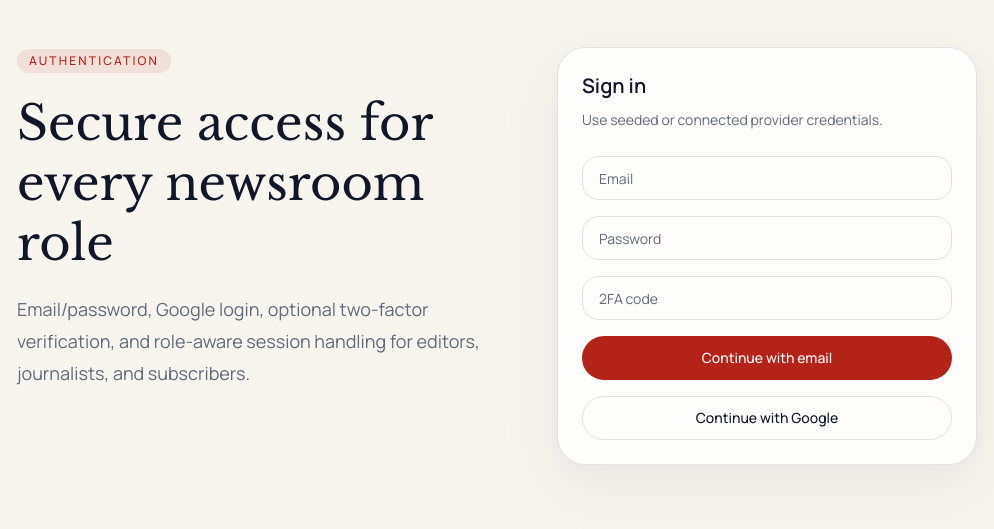
Test: LoginPage › shows a clear error when credentials fail
Type "admin@vanterenpress.com" into the field with placeholder "Email" at point(767, 178), box x1=582 y1=156 x2=952 y2=200
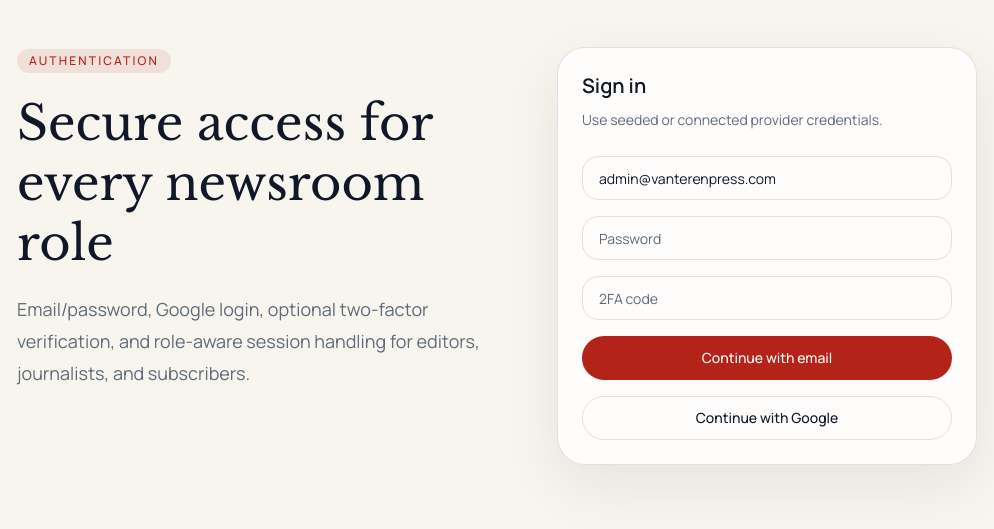
Type "wrong-password" into the password field with placeholder "Password" at point(767, 238), box x1=582 y1=216 x2=952 y2=260
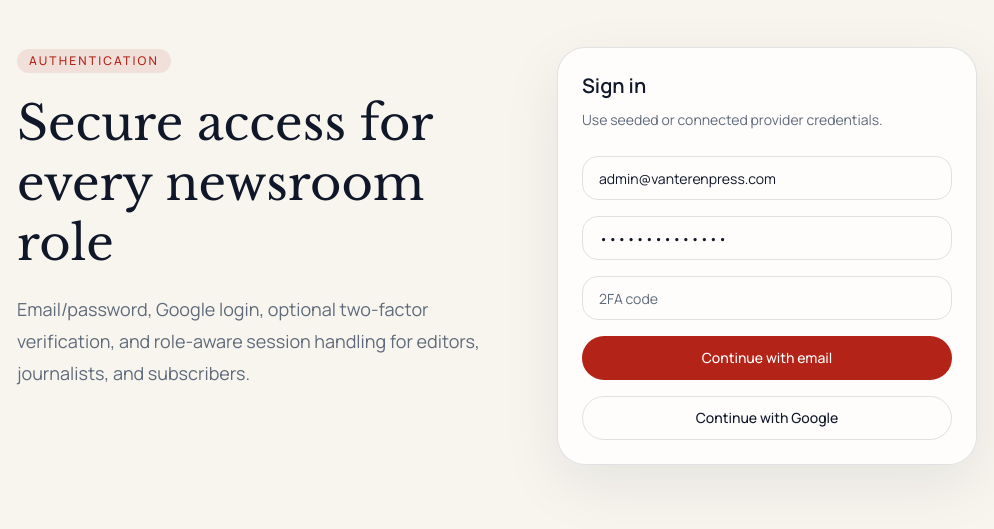
Click the button "Continue with email" at point(767, 358), box x1=582 y1=336 x2=952 y2=380
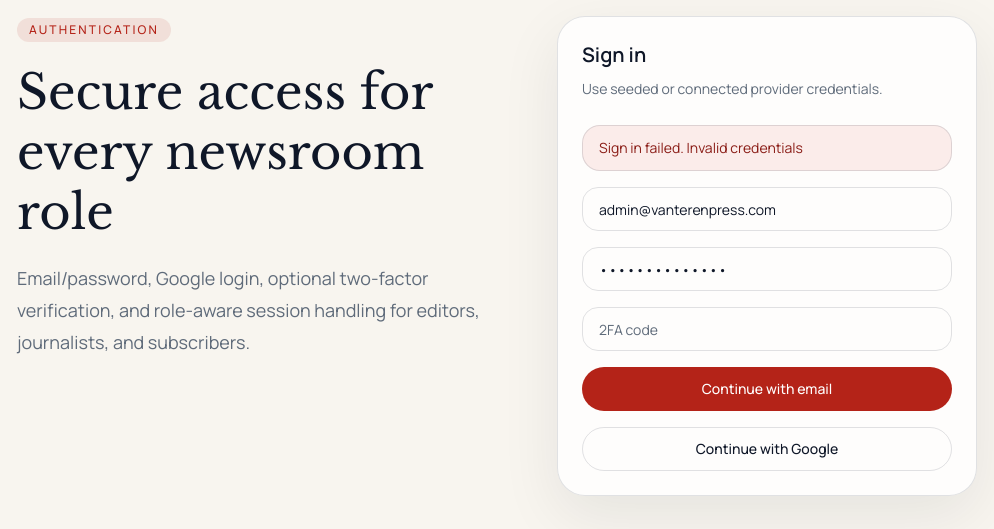
Expected: the button "Continue with email" is enabled, x1=582 y1=367 x2=952 y2=411
Now the text "Sign in failed. Invalid credentials" is shown, box x1=582 y1=125 x2=952 y2=171
